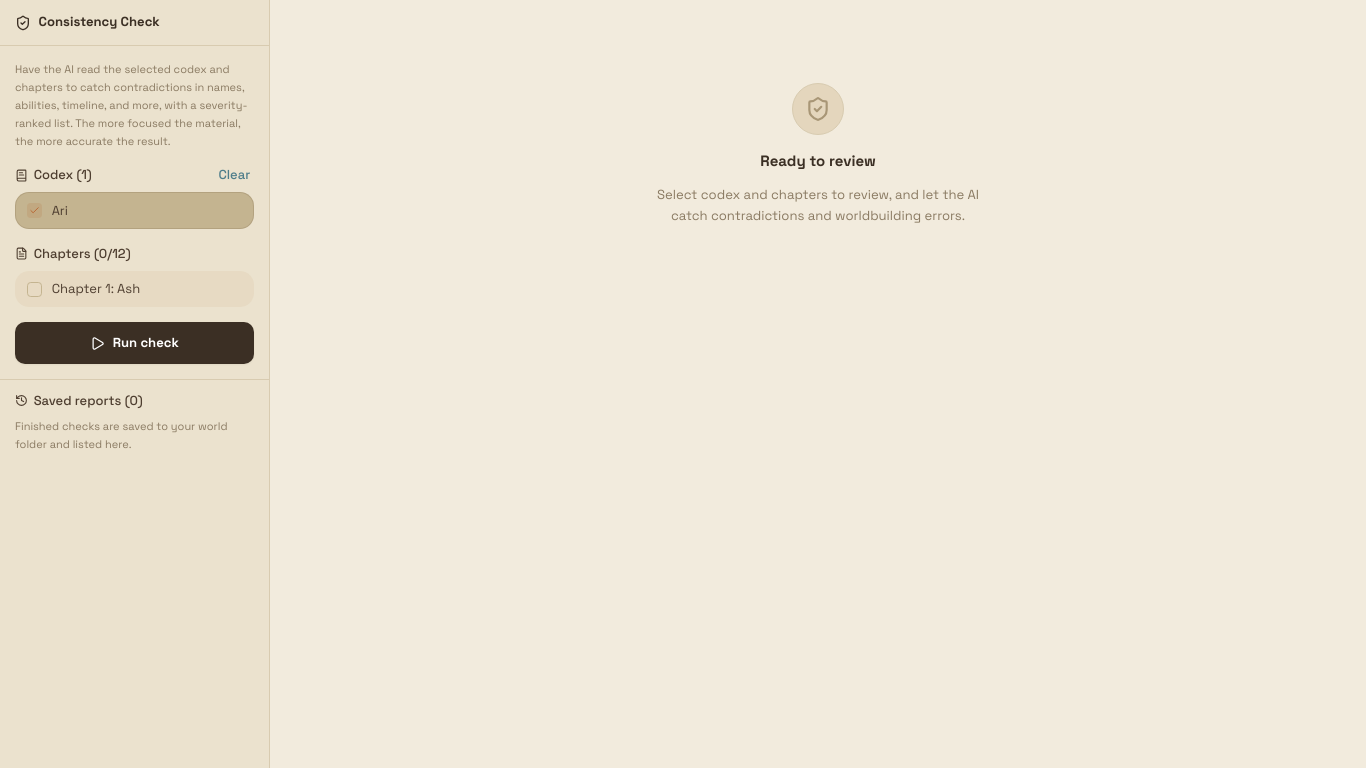
Test: the consistency check › streams the report, marks it unsaved, and saves it with the scope it ran over
The width and height of the screenshot is (1366, 768).
Expected: the heading "Consistency Check" is shown, [15, 13, 160, 30]
Expected: the heading "Ready to review" is shown, [760, 150, 876, 172]
Click the button "Run check" at (134, 343), box [15, 322, 254, 364]
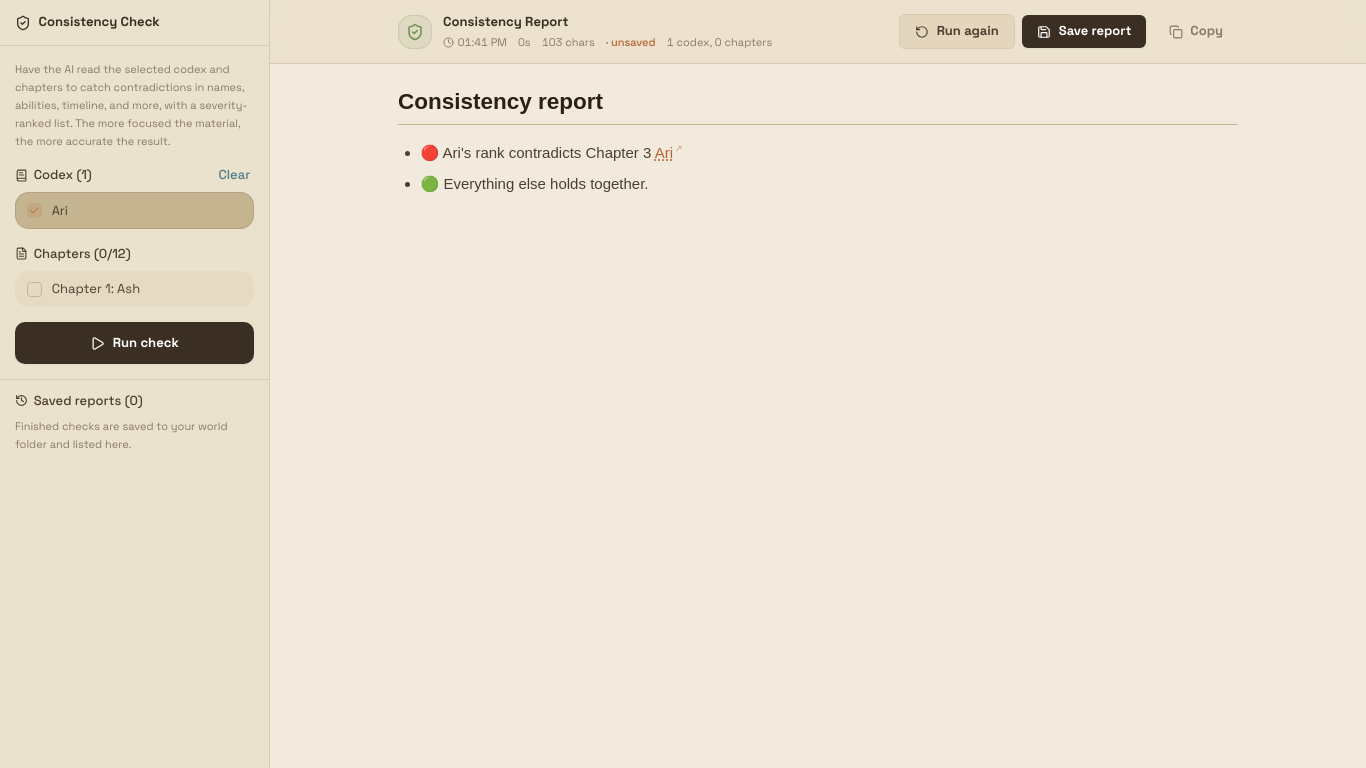
Result: the list item "🔴 Ari's rank contradicts Chapter 3 Ari" is shown at [420, 144, 673, 161]
Result: the text "· unsaved" is shown at [606, 34, 656, 50]
Click the button "Save report" at (1084, 32), box [1022, 15, 1146, 48]
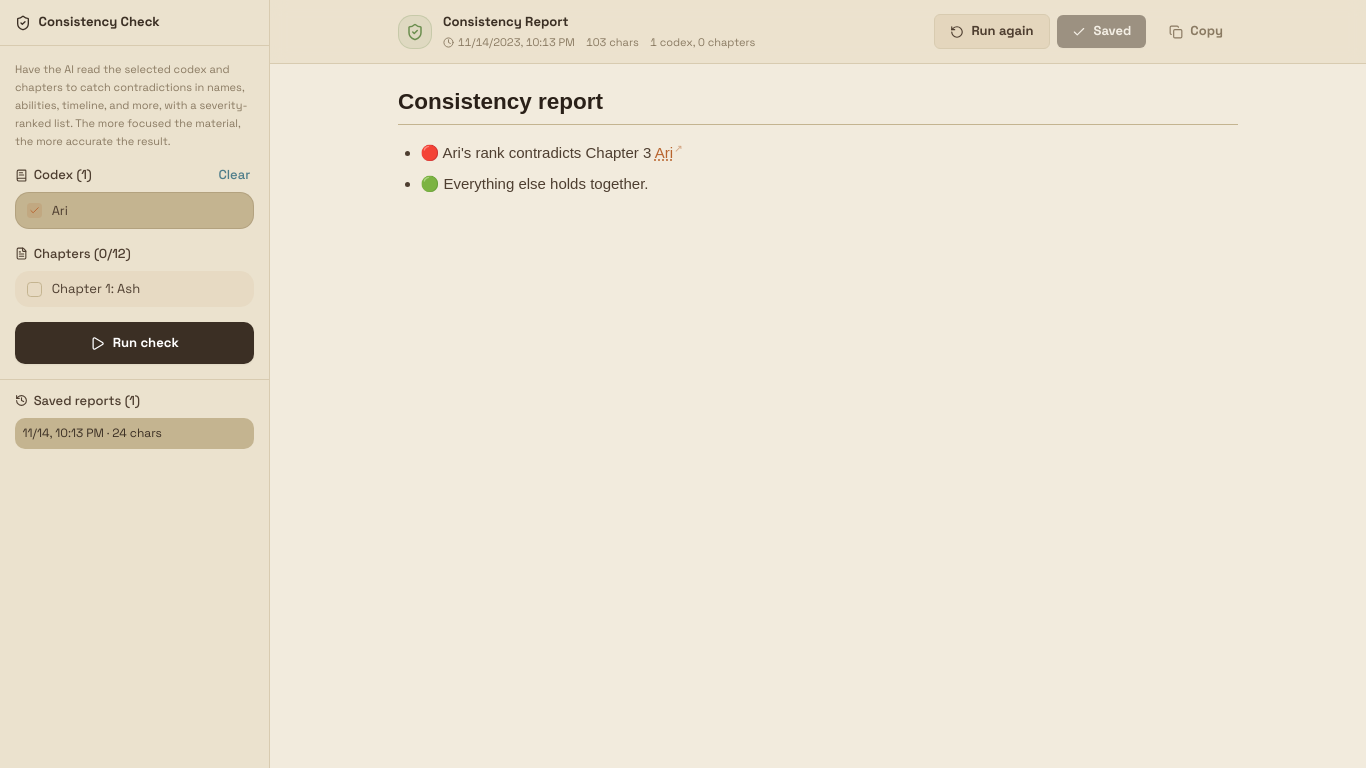
Result: the button "Saved" is shown at [1057, 15, 1146, 48]
Result: the text "· unsaved" is gone
Result: the text "Saved reports (1)" is shown at [15, 392, 140, 409]
